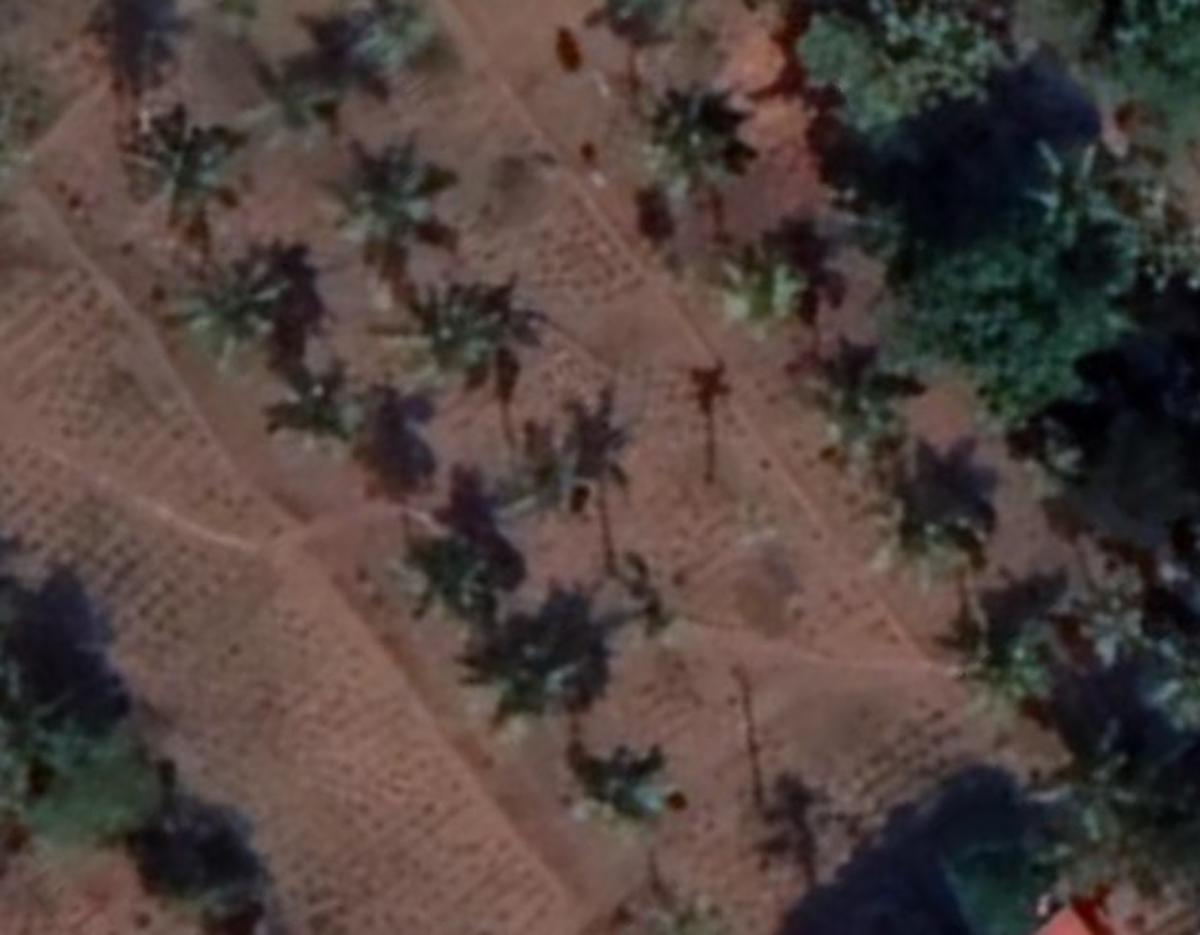coconut: (339, 138, 460, 270), (399, 533, 522, 662), (165, 255, 289, 382), (261, 364, 393, 479), (1048, 731, 1175, 850), (134, 122, 270, 230), (629, 84, 752, 201), (236, 69, 364, 176), (455, 629, 574, 744), (791, 351, 900, 474), (890, 478, 1000, 591), (572, 752, 687, 858), (1027, 138, 1130, 247), (403, 282, 512, 383), (710, 245, 816, 347), (954, 629, 1048, 735), (489, 433, 581, 524), (606, 570, 693, 656)
